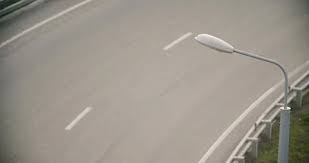Top_Street_Light: (114, 28, 252, 89)
